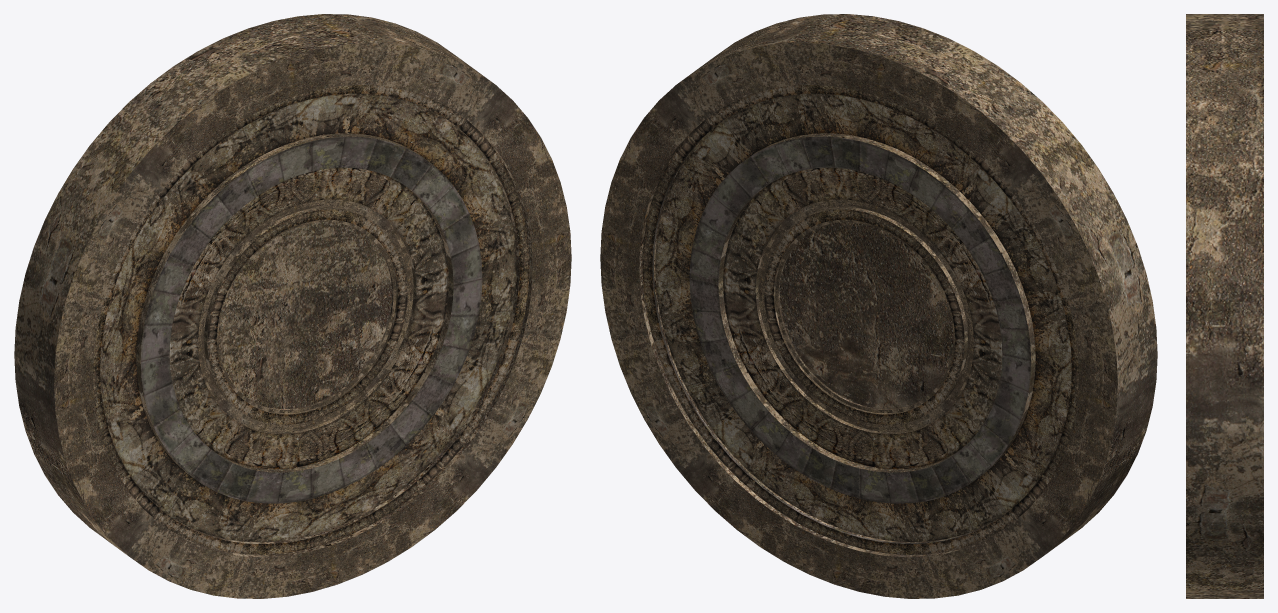
Rendered from materials_5_decoration_plate_0.fbx.
3 views of the same model, side by side, from view 1: azimuth 30°, elevation 25°; view 2: azimuth 150°, elevation 25°; view 3: azimuth 270°, elevation 25° (orthographic). The views are drawn at different scales.
Parts seen in each view (by area): view 1: materials_5_decoration_plate_0; view 2: materials_5_decoration_plate_0; view 3: materials_5_decoration_plate_0.
Boxes of the visible parts, x1,y1,x2,y2 form: materials_5_decoration_plate_0: (14, 14, 571, 598); materials_5_decoration_plate_0: (600, 14, 1157, 598); materials_5_decoration_plate_0: (1186, 14, 1263, 598).
Bounding box in the file's own units: 90.75 × 90.75 × 12.08.
